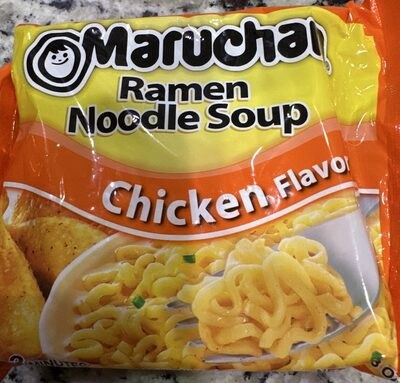Ramen Noodle Soup Chicken Flavor: (20, 19, 380, 364)
